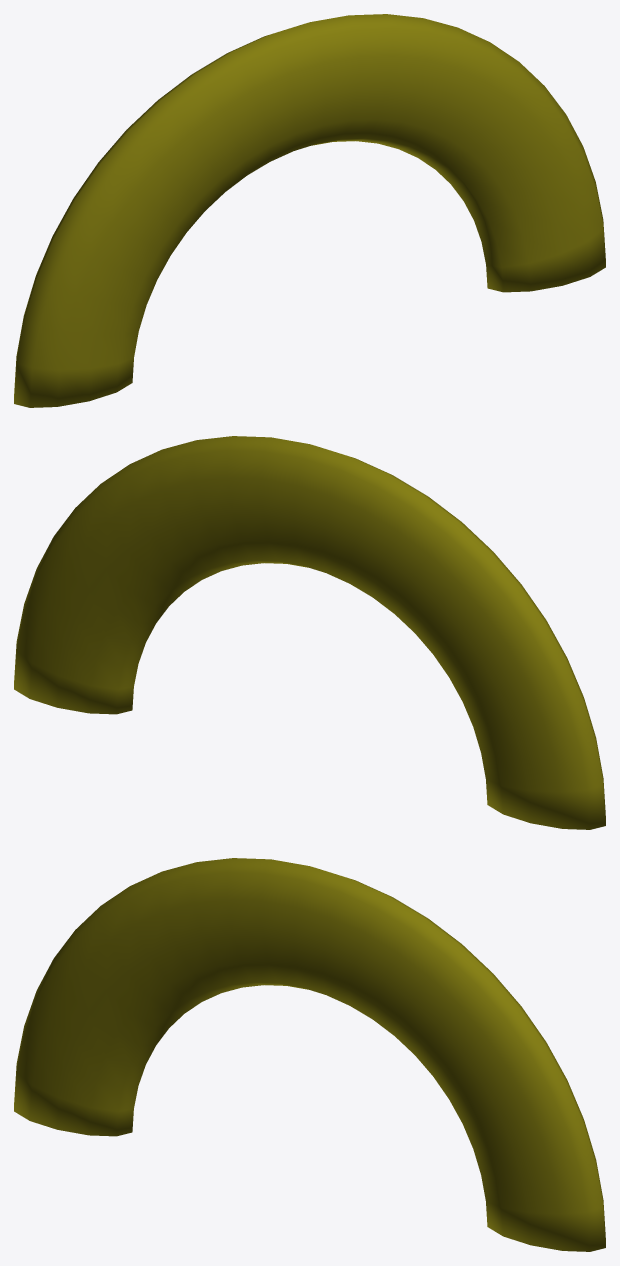
Rendered from planet2archway.fbx.
3 renders of one model, top to bottom at view 1: azimuth 30°, elevation 25°; view 2: azimuth 150°, elevation 25°; view 3: azimuth 330°, elevation 25°, orthographic.
Visible parts, largest first — view 1: Sphere; view 2: Sphere; view 3: Sphere.
Part boxes in pixels (x1,y1,x2,y2): Sphere: [14, 14, 605, 407]; Sphere: [14, 436, 605, 829]; Sphere: [14, 858, 605, 1251].
Bounding box in the file's own units: 3411 × 1706 × 320.
